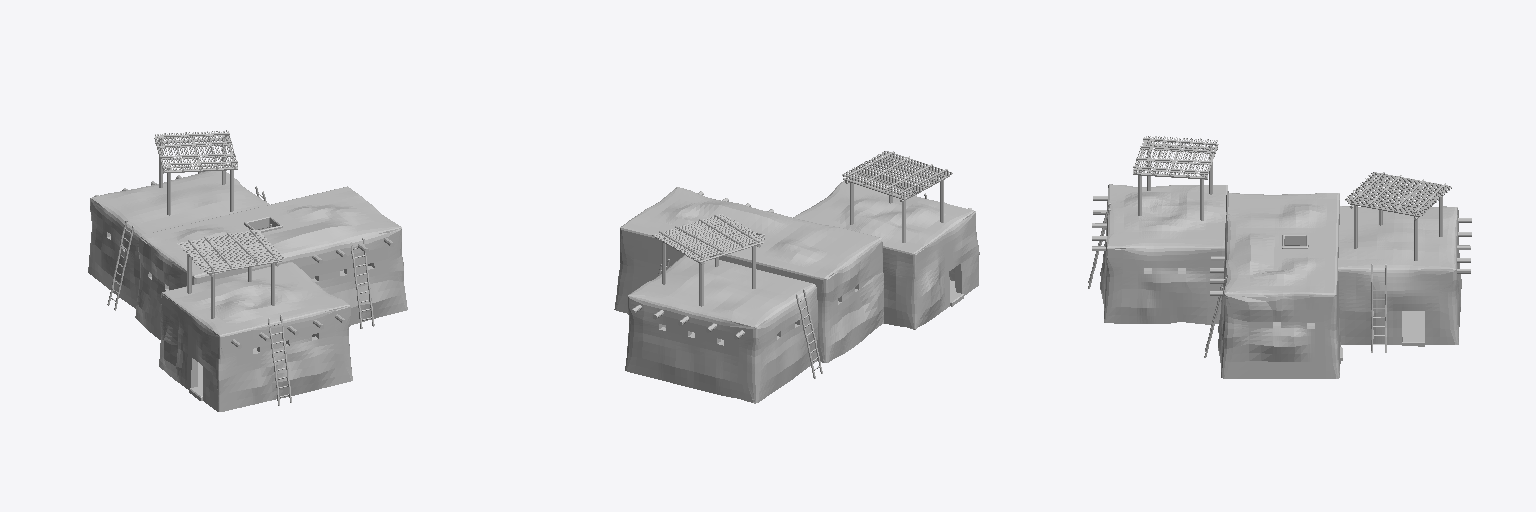
The model's file is midpoly_turkish_house_005.obj.
3 renders of one model, left to right at view 1: azimuth 30°, elevation 25°; view 2: azimuth 150°, elevation 25°; view 3: azimuth 270°, elevation 25°, orthographic.
Parts seen in each view (by area): view 1: Cube.107, Cube.106, Cube.108, Cylinder.067, Cylinder.066; view 2: Cube.108, Cube.106, Cube.107, Cylinder.066, Cylinder.067; view 3: Cube.106, Cube.107, Cube.108, Cylinder.066, Cylinder.067, Cube.003.
Part boxes in pixels (x1,y1,x2,y2): Cube.107: (159, 262, 352, 411); Cube.106: (135, 186, 407, 339); Cube.108: (88, 167, 269, 308); Cylinder.067: (177, 229, 284, 318); Cylinder.066: (154, 130, 237, 215); Cube.108: (625, 255, 817, 403); Cube.106: (614, 187, 883, 362); Cube.107: (793, 180, 979, 329); Cylinder.066: (652, 214, 765, 306); Cylinder.067: (842, 151, 952, 242); Cube.106: (1218, 193, 1340, 378); Cube.107: (1100, 184, 1228, 324); Cube.108: (1338, 206, 1461, 344); Cylinder.066: (1345, 172, 1451, 260); Cylinder.067: (1133, 136, 1218, 220); Cube.003: (1402, 311, 1424, 336).
Size of the model in its own units: 7.76 by 3.71 by 10.11.